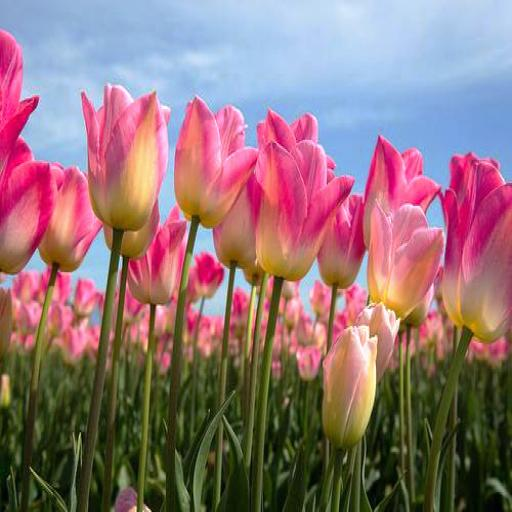tulip: (256, 143, 354, 277), (82, 80, 168, 228), (446, 163, 512, 340), (175, 98, 256, 222), (370, 201, 446, 320), (40, 164, 103, 270), (324, 328, 376, 442)
